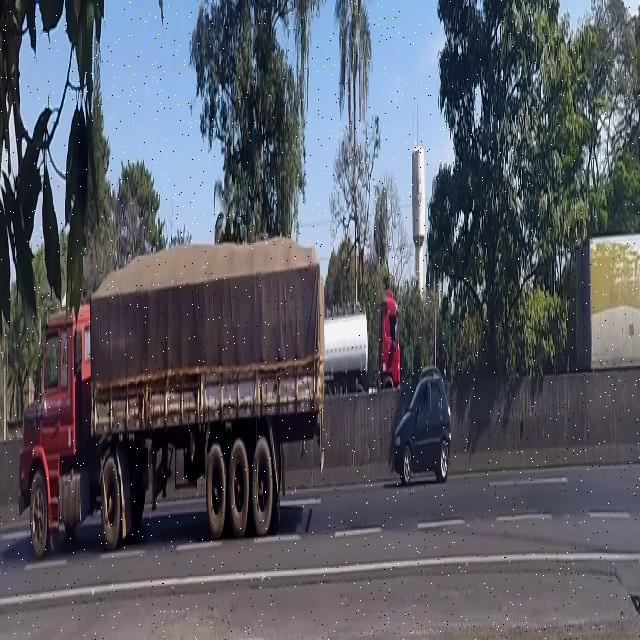-axle: (99, 448, 122, 562), (228, 434, 250, 553), (253, 432, 273, 548), (27, 466, 49, 570), (205, 436, 225, 546)
